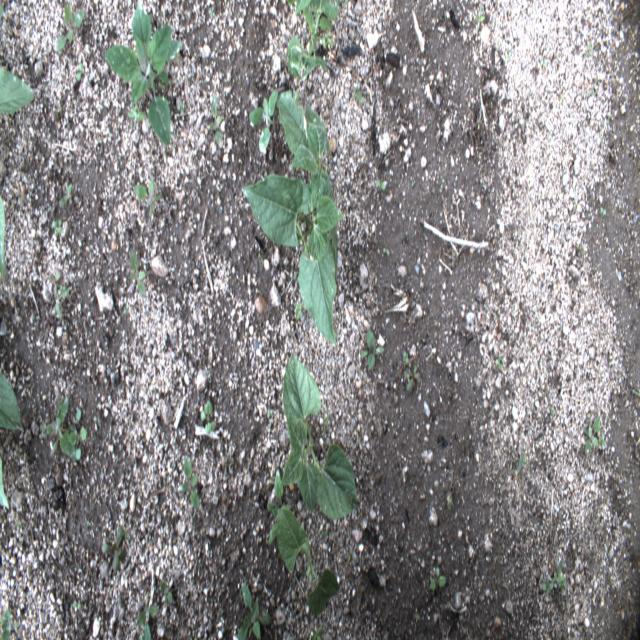crop: (240, 90, 346, 345), (280, 348, 360, 518), (276, 505, 339, 614), (286, 0, 338, 81), (0, 67, 37, 113), (0, 372, 24, 433), (0, 455, 9, 509), (0, 194, 5, 280)
weed: (104, 1, 185, 145), (47, 394, 77, 464), (237, 582, 270, 640), (267, 468, 291, 546), (249, 90, 278, 154), (58, 0, 86, 52), (360, 327, 386, 372), (131, 180, 162, 216), (101, 525, 125, 571), (135, 602, 161, 638), (543, 556, 567, 595), (183, 453, 199, 509), (129, 248, 146, 298), (209, 91, 223, 150), (583, 414, 601, 454), (200, 400, 216, 434), (430, 566, 446, 591), (0, 609, 10, 639), (59, 181, 72, 203)
